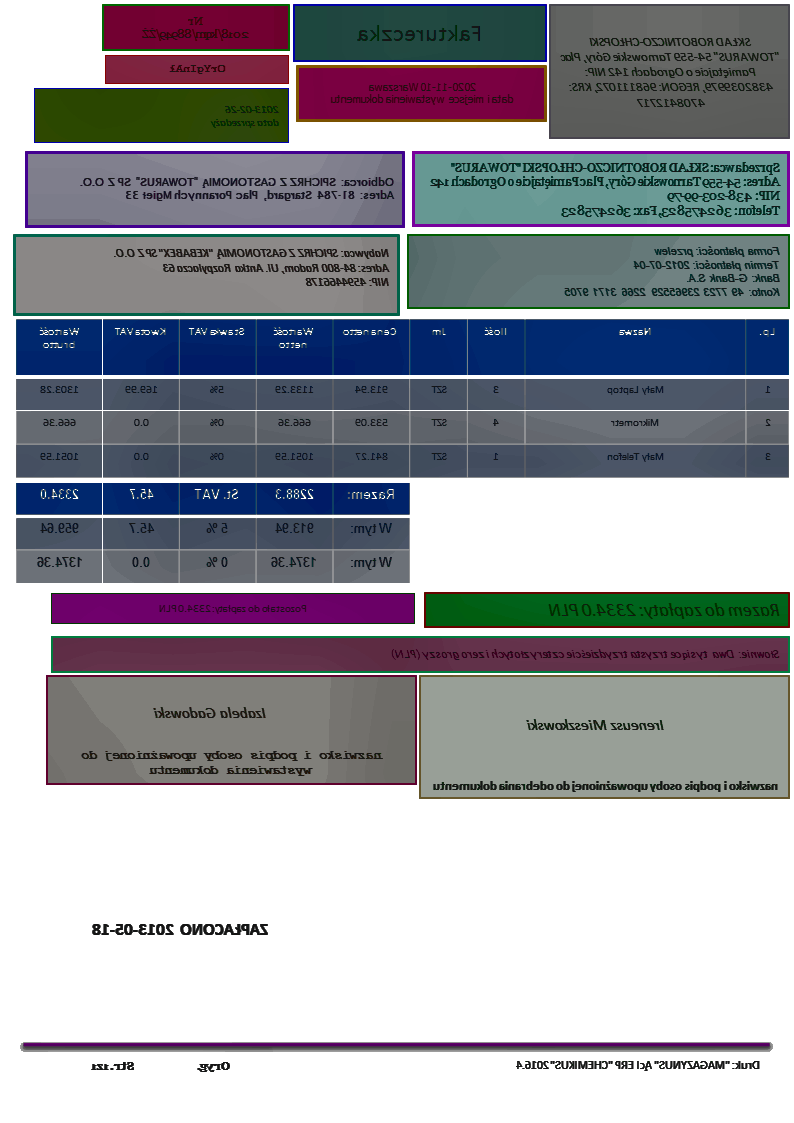Table: (14, 318, 791, 478), (14, 481, 412, 585)
TextBox: (426, 158, 783, 219), (555, 33, 782, 113), (109, 244, 392, 290), (561, 242, 783, 300), (77, 172, 399, 204), (78, 746, 386, 778), (390, 645, 781, 663), (431, 775, 781, 795), (546, 597, 783, 622), (515, 1055, 762, 1076), (327, 80, 517, 107), (87, 918, 274, 939), (140, 12, 252, 45), (525, 713, 668, 736), (356, 22, 484, 45), (150, 701, 269, 724), (87, 1057, 233, 1075), (154, 599, 311, 615), (208, 102, 282, 133), (168, 60, 229, 78)
